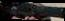gun: (0, 1, 65, 21)
